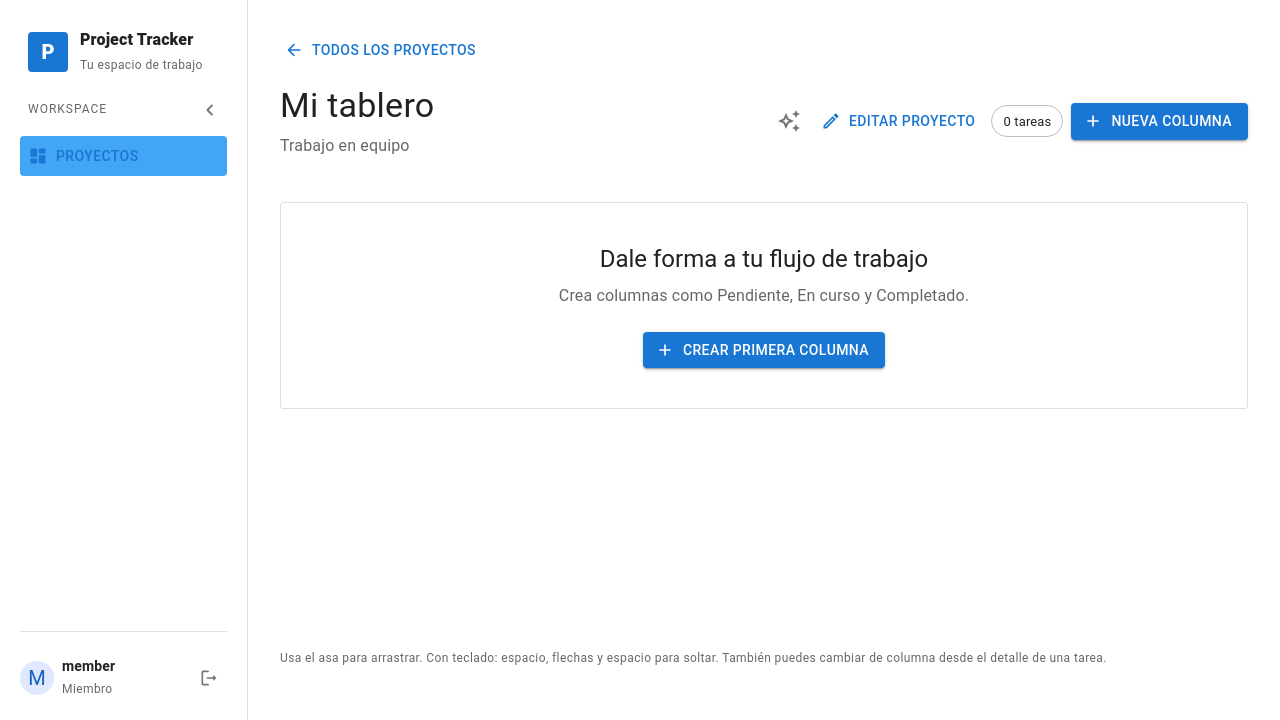
Scenario: malformed preferences use defaults and write failures do not block the assistant
The image size is (1280, 720).
Click the button named "Mostrar asistente" at {"x": 789, "y": 122}, box [769,102,809,142]
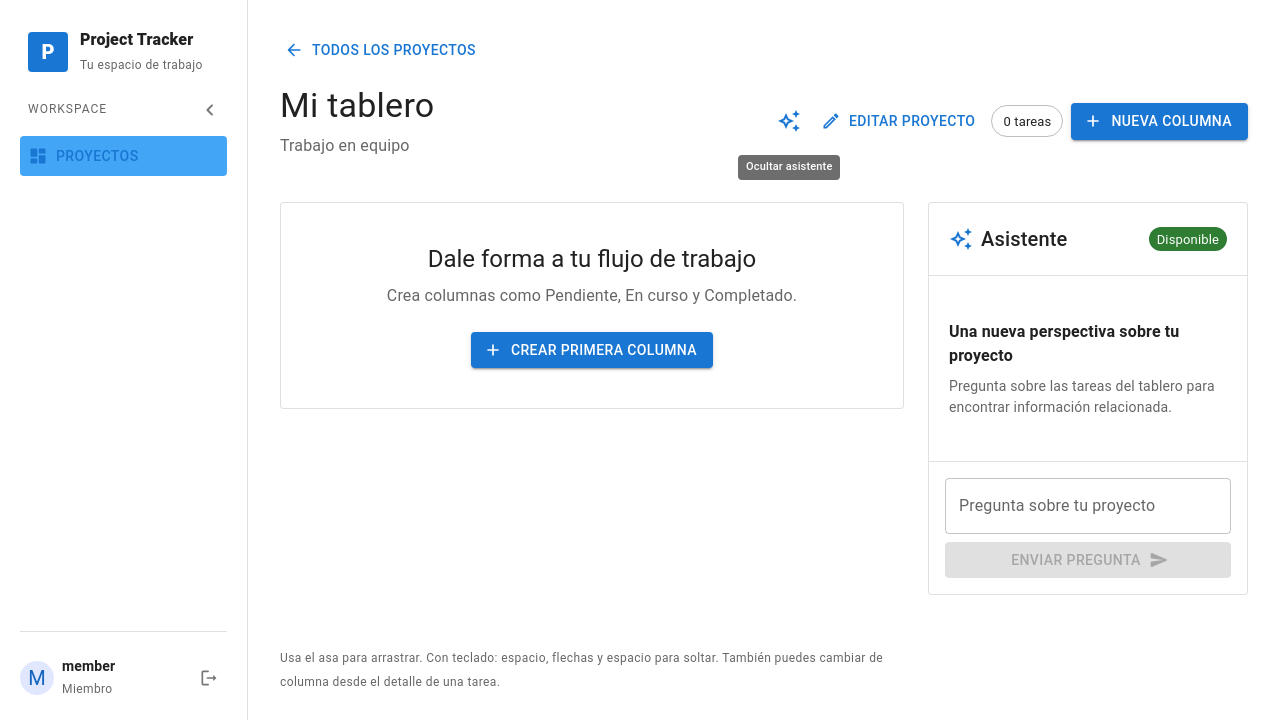
Result: the element named "Asistente del proyecto" is shown at [928,202,1248,595]
